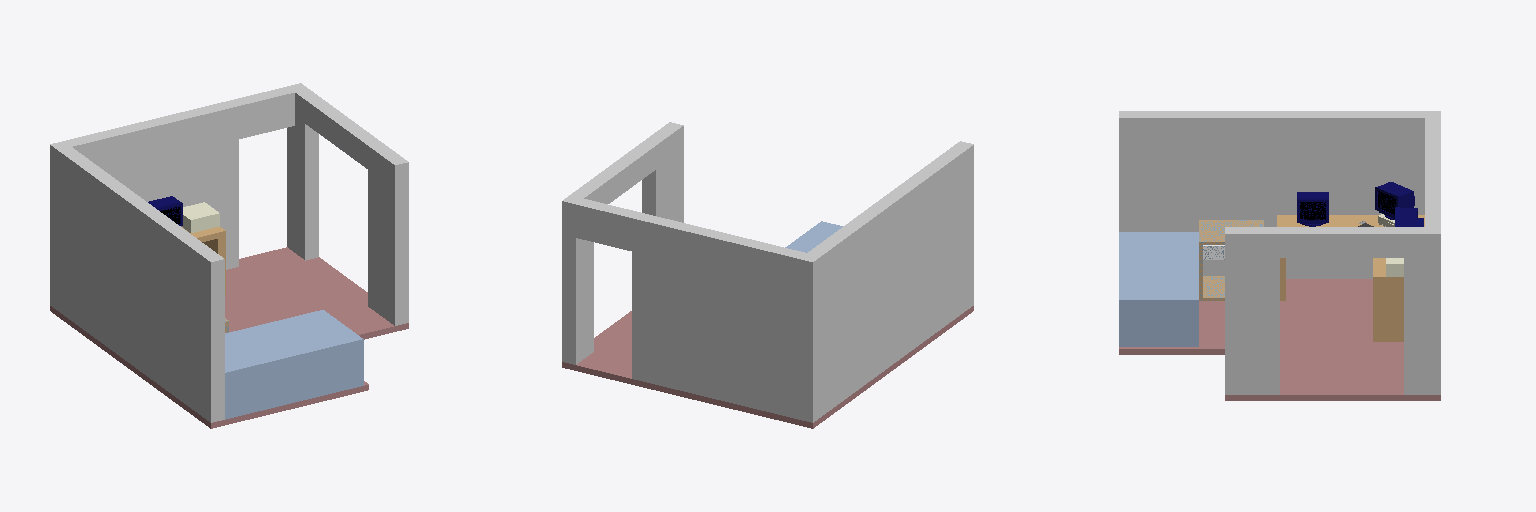
Rendered from Resources_Env_RoomTest_01b.obj.
The picture shows the model from 3 angles: view 1: azimuth 30°, elevation 25°; view 2: azimuth 150°, elevation 25°; view 3: azimuth 270°, elevation 25°; orthographic projection.
Visible parts, largest first — view 1: Mesh107 Wall_Back1 Model, Mesh106 Group95 Wall_LivingRoom1 Model, Mesh105 Wall_Balcony1 Model, Mesh108 Bed1 Model, Mesh119 Ground1 Model, Mesh2 MacintoshQuadra900_1 Model; view 2: Mesh106 Group95 Wall_LivingRoom1 Model, Mesh107 Wall_Back1 Model, Mesh105 Wall_Balcony1 Model, Mesh119 Ground1 Model, Mesh108 Bed1 Model; view 3: Mesh107 Wall_Back1 Model, Mesh105 Wall_Balcony1 Model, Mesh119 Ground1 Model, Mesh108 Bed1 Model, Mesh109 NightTable1 Model, Mesh110 Group96 Desk1 Model, Mesh106 Group95 Wall_LivingRoom1 Model, Mesh112 Group98 Desk1 Model, Mesh4 SGI_GDM_5411_21__Monitor1 Model, Mesh103 SGI_GDM_5411_21__Monitor4 Model.
Part boxes in pixels (bbox=[...]): Mesh107 Wall_Back1 Model: bbox=[50, 141, 224, 422]; Mesh106 Group95 Wall_LivingRoom1 Model: bbox=[64, 87, 294, 269]; Mesh105 Wall_Balcony1 Model: bbox=[287, 83, 408, 325]; Mesh108 Bed1 Model: bbox=[225, 310, 363, 419]; Mesh119 Ground1 Model: bbox=[50, 247, 408, 428]; Mesh2 MacintoshQuadra900_1 Model: bbox=[181, 202, 219, 232]; Mesh106 Group95 Wall_LivingRoom1 Model: bbox=[576, 199, 806, 419]; Mesh107 Wall_Back1 Model: bbox=[799, 141, 973, 422]; Mesh105 Wall_Balcony1 Model: bbox=[562, 122, 683, 364]; Mesh119 Ground1 Model: bbox=[562, 306, 973, 428]; Mesh108 Bed1 Model: bbox=[785, 221, 842, 252]; Mesh107 Wall_Back1 Model: bbox=[1119, 111, 1440, 278]; Mesh105 Wall_Balcony1 Model: bbox=[1225, 227, 1440, 394]; Mesh119 Ground1 Model: bbox=[1119, 279, 1440, 400]; Mesh108 Bed1 Model: bbox=[1119, 232, 1198, 346]; Mesh109 NightTable1 Model: bbox=[1199, 220, 1263, 300]; Mesh110 Group96 Desk1 Model: bbox=[1373, 283, 1403, 341]; Mesh106 Group95 Wall_LivingRoom1 Model: bbox=[1425, 118, 1440, 226]; Mesh112 Group98 Desk1 Model: bbox=[1277, 215, 1424, 282]; Mesh4 SGI_GDM_5411_21__Monitor1 Model: bbox=[1297, 198, 1328, 222]; Mesh103 SGI_GDM_5411_21__Monitor4 Model: bbox=[1375, 186, 1401, 217].
Size of the model in its own units: 4.5 by 2.85 by 5.